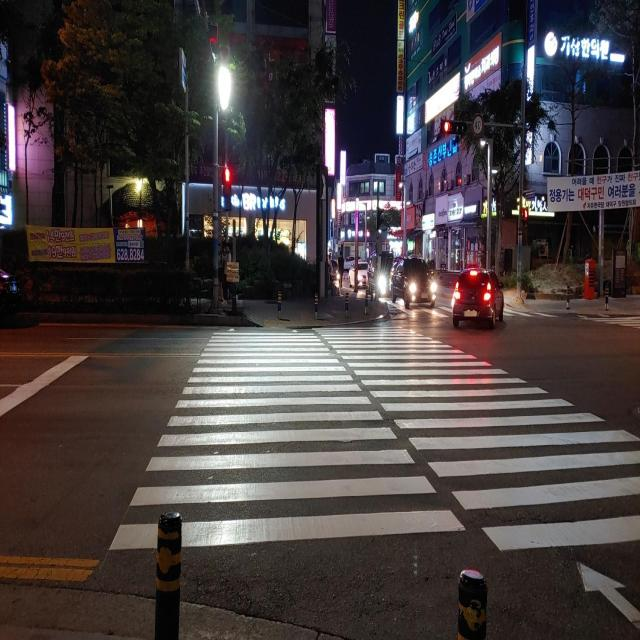빨간불: (519, 205, 531, 239)
횡단보도: (105, 318, 640, 637), (396, 303, 550, 318)
